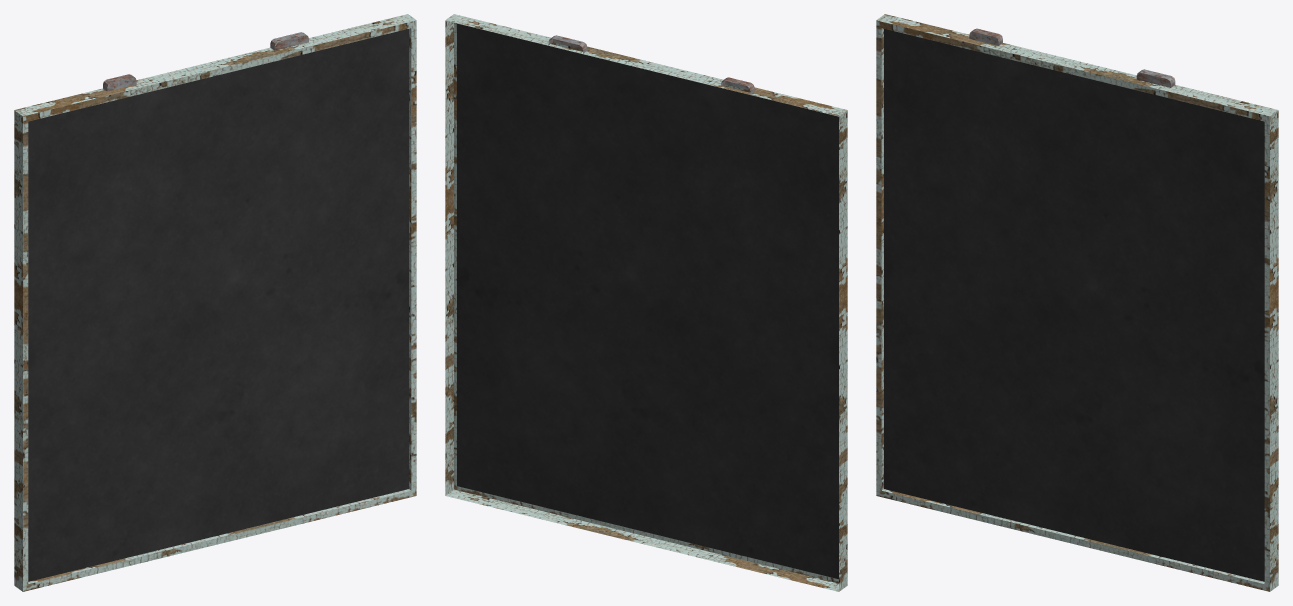
File: mirror.glb
3 renders of one model, left to right at view 1: azimuth 30°, elevation 25°; view 2: azimuth 150°, elevation 25°; view 3: azimuth 330°, elevation 25°, orthographic.
Visible parts, largest first — view 1: Mirror, Frame; view 2: Mirror, Frame; view 3: Mirror, Frame.
Part boxes in pixels (<box>): Mirror: <box>28,29,408,581</box>; Frame: <box>14,14,416,591</box>; Mirror: <box>457,23,838,579</box>; Frame: <box>445,14,847,591</box>; Mirror: <box>884,29,1264,581</box>; Frame: <box>876,14,1278,591</box>.
Bounding box in the file's own units: 52 × 61 × 2.
2 materials, 2 textured.
